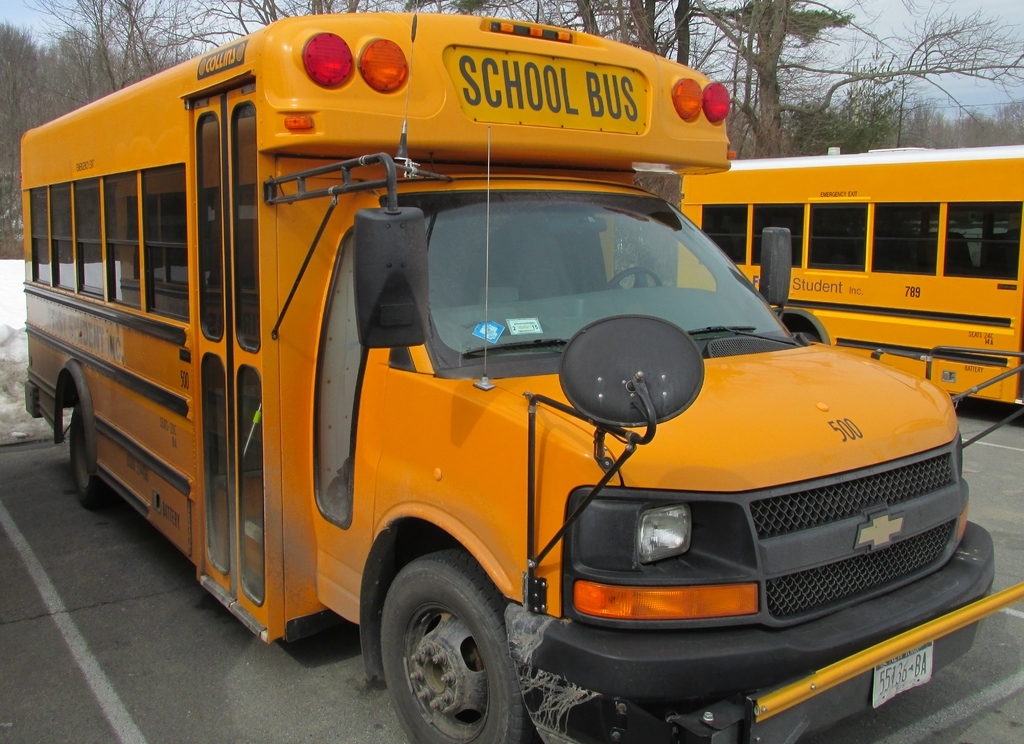Bus: (20, 12, 1020, 743), (588, 141, 1023, 401)
